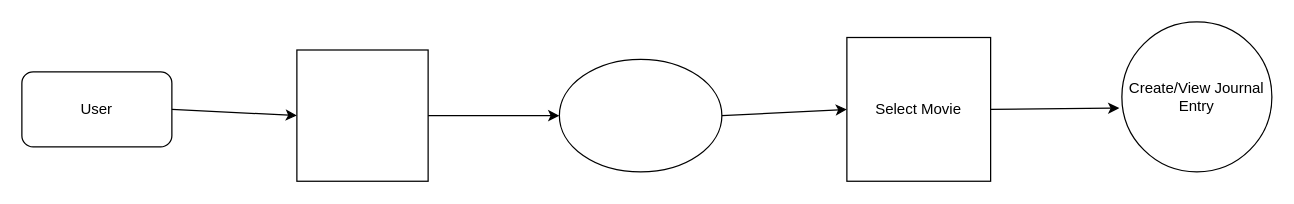
Some shapes in this 1294 by 204 pixel diagram are drawn without their labels. Here are the shapes that lost their labels. From the top down, the centre of each, then its label:
point 362,115: Download App on Android Devices
point 640,115: Use App
